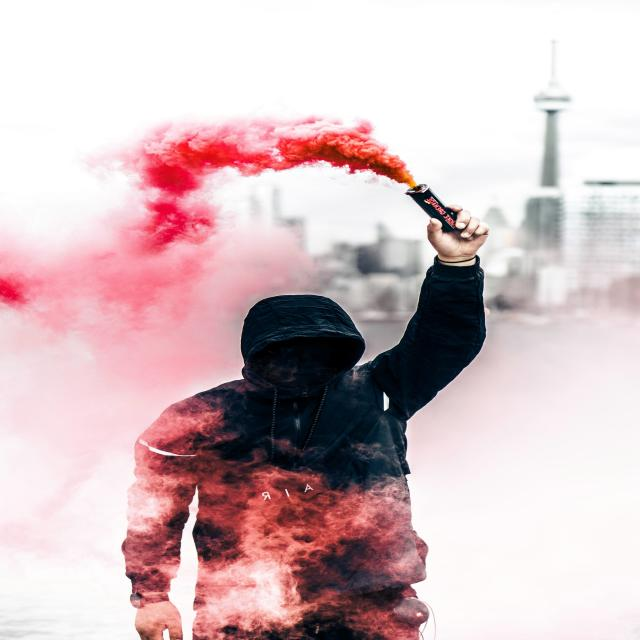adult: (129, 200, 497, 640)
